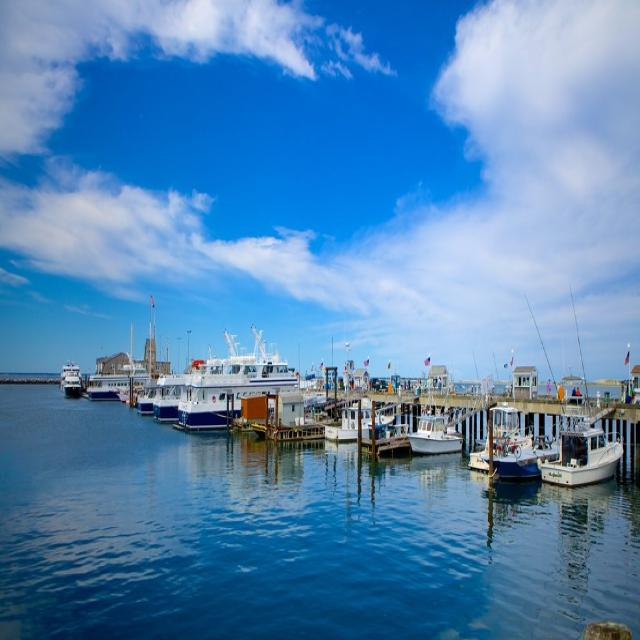houseboat: (545, 411, 634, 491)
passenger ship: (177, 334, 305, 432)
